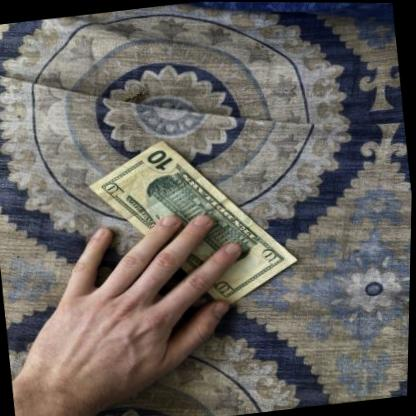ten-back: (89, 139, 298, 308)
